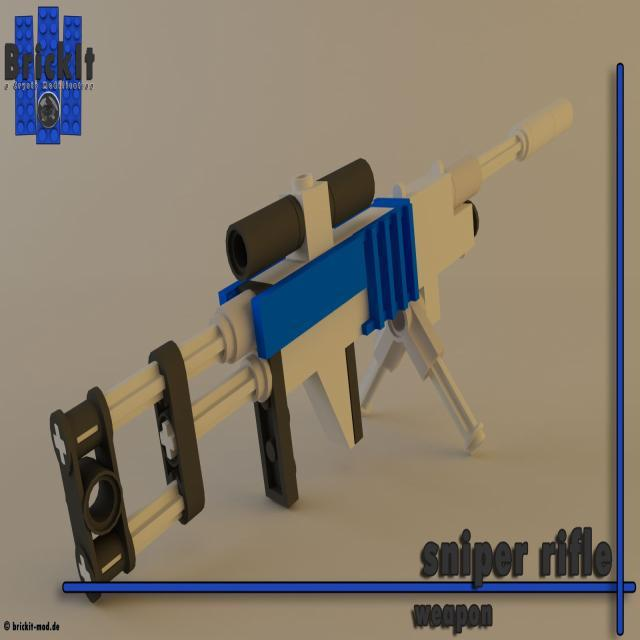weapon: (48, 81, 582, 610)
